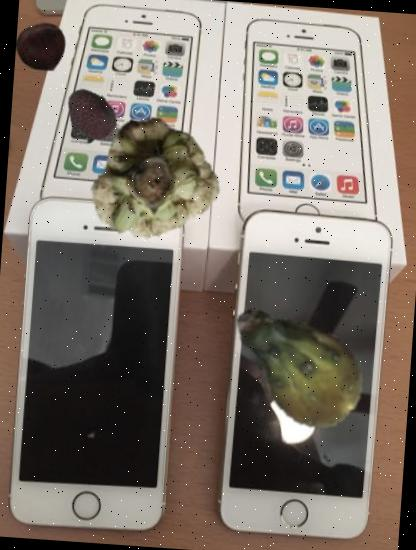Cactus: (214, 288, 374, 448)
Cauliflower: (78, 111, 215, 248)
Chestnut: (14, 20, 70, 76)
Strawberry: (59, 83, 122, 146)
